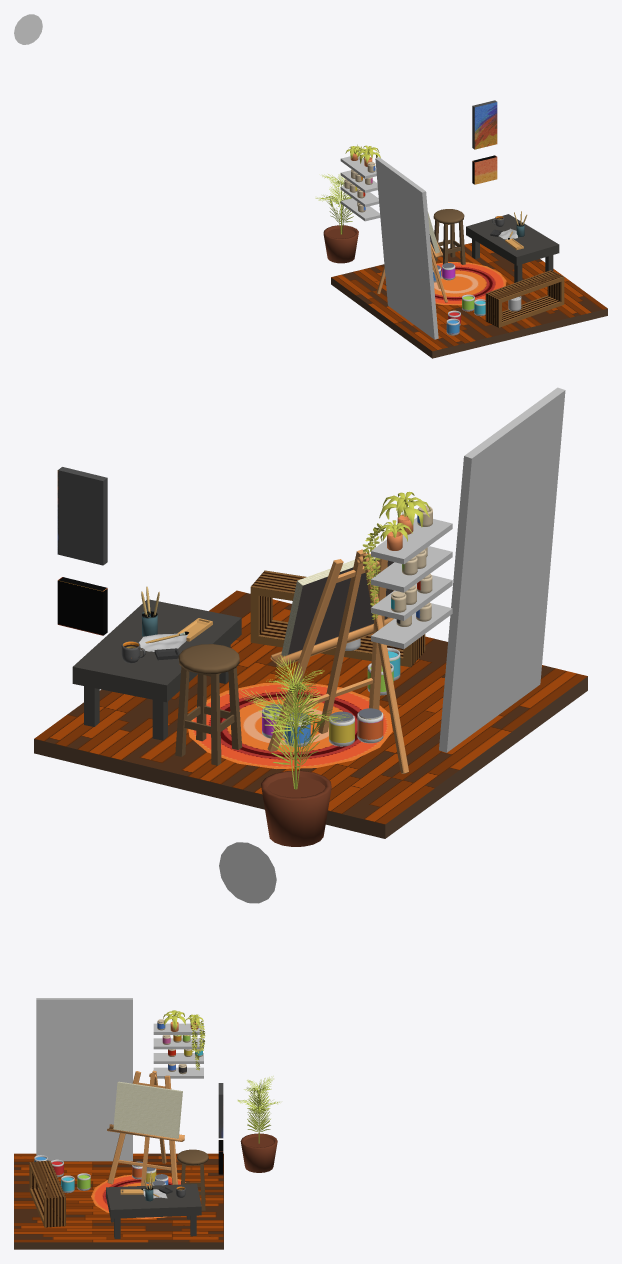
Rendered from don't use.fbx.
3 views of the same model, one above another, from view 1: azimuth 30°, elevation 25°; view 2: azimuth 150°, elevation 25°; view 3: azimuth 270°, elevation 25° (orthographic). The views are drawn at different scales.
Parts seen in each view (by area): view 1: Hardwood_floor, Painting_1, Table, Fitment, Circular_Carpet, Shelfs, Seat_wood, Painting_2, Palm_flowerpot, Palm, Paint_Pot_Group_1, Moon (+2 smaller); view 2: Hardwood_floor, Painting_1, Table, Trestle, Circular_Carpet, Shelfs, Seat_wood, Painting_2, Palm_flowerpot, Canvas_White, Palm, Fitment (+5 smaller); view 3: Painting_1, Hardwood_floor, Canvas_White, Table, Fitment, Shelfs, Trestle, Palm_flowerpot, Palm, Seat_wood, Circular_Carpet, Flowers (+3 smaller).
Part boxes in pixels (x1,y1,x2,y2): Hardwood_floor: (331,243,607,358); Painting_1: (375,157,438,339); Table: (466,214,559,282); Fitment: (485,270,564,327); Circular_Carpet: (434,262,506,305); Shelfs: (340,156,380,221); Seat_wood: (433,209,465,264); Painting_2: (472,100,497,149); Palm_flowerpot: (323,225,358,263); Palm: (315,174,353,234); Paint_Pot_Group_1: (446,294,485,335); Moon: (14,14,42,44); Hardwood_floor: (34,590,587,838); Painting_1: (439,387,565,752); Table: (72,599,241,740); Trestle: (267,549,408,773); Circular_Carpet: (188,682,392,768); Shelfs: (371,517,452,649); Seat_wood: (175,644,242,765); Painting_2: (57,467,107,565); Palm_flowerpot: (261,770,331,846); Canvas_White: (281,557,393,656); Palm: (240,655,349,789); Fitment: (250,570,425,667); Painting_1: (36,998,132,1161); Hardwood_floor: (14,1153,223,1249); Canvas_White: (113,1081,182,1138); Table: (106,1184,201,1238); Fitment: (29,1160,65,1227); Shelfs: (153,1023,203,1078); Trestle: (107,1070,184,1185); Palm_flowerpot: (240,1133,277,1172); Palm: (237,1076,279,1143); Seat_wood: (177,1149,208,1210); Circular_Carpet: (91,1174,185,1218); Flowers: (163,1010,205,1070).
Bounding box in the file's own units: 682 × 345 × 1104.
